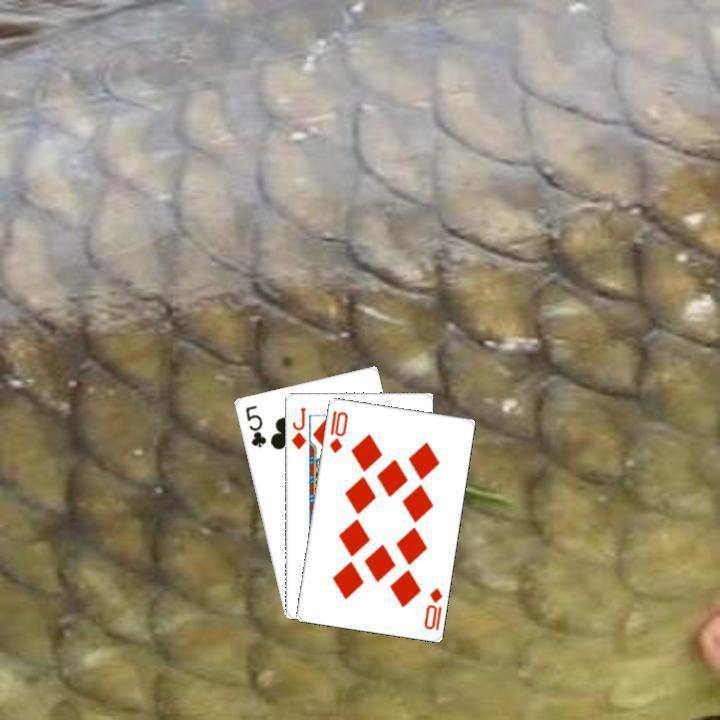10: (419, 583, 444, 632), (325, 406, 350, 454)
5: (241, 401, 268, 449)
J: (287, 403, 308, 451)
